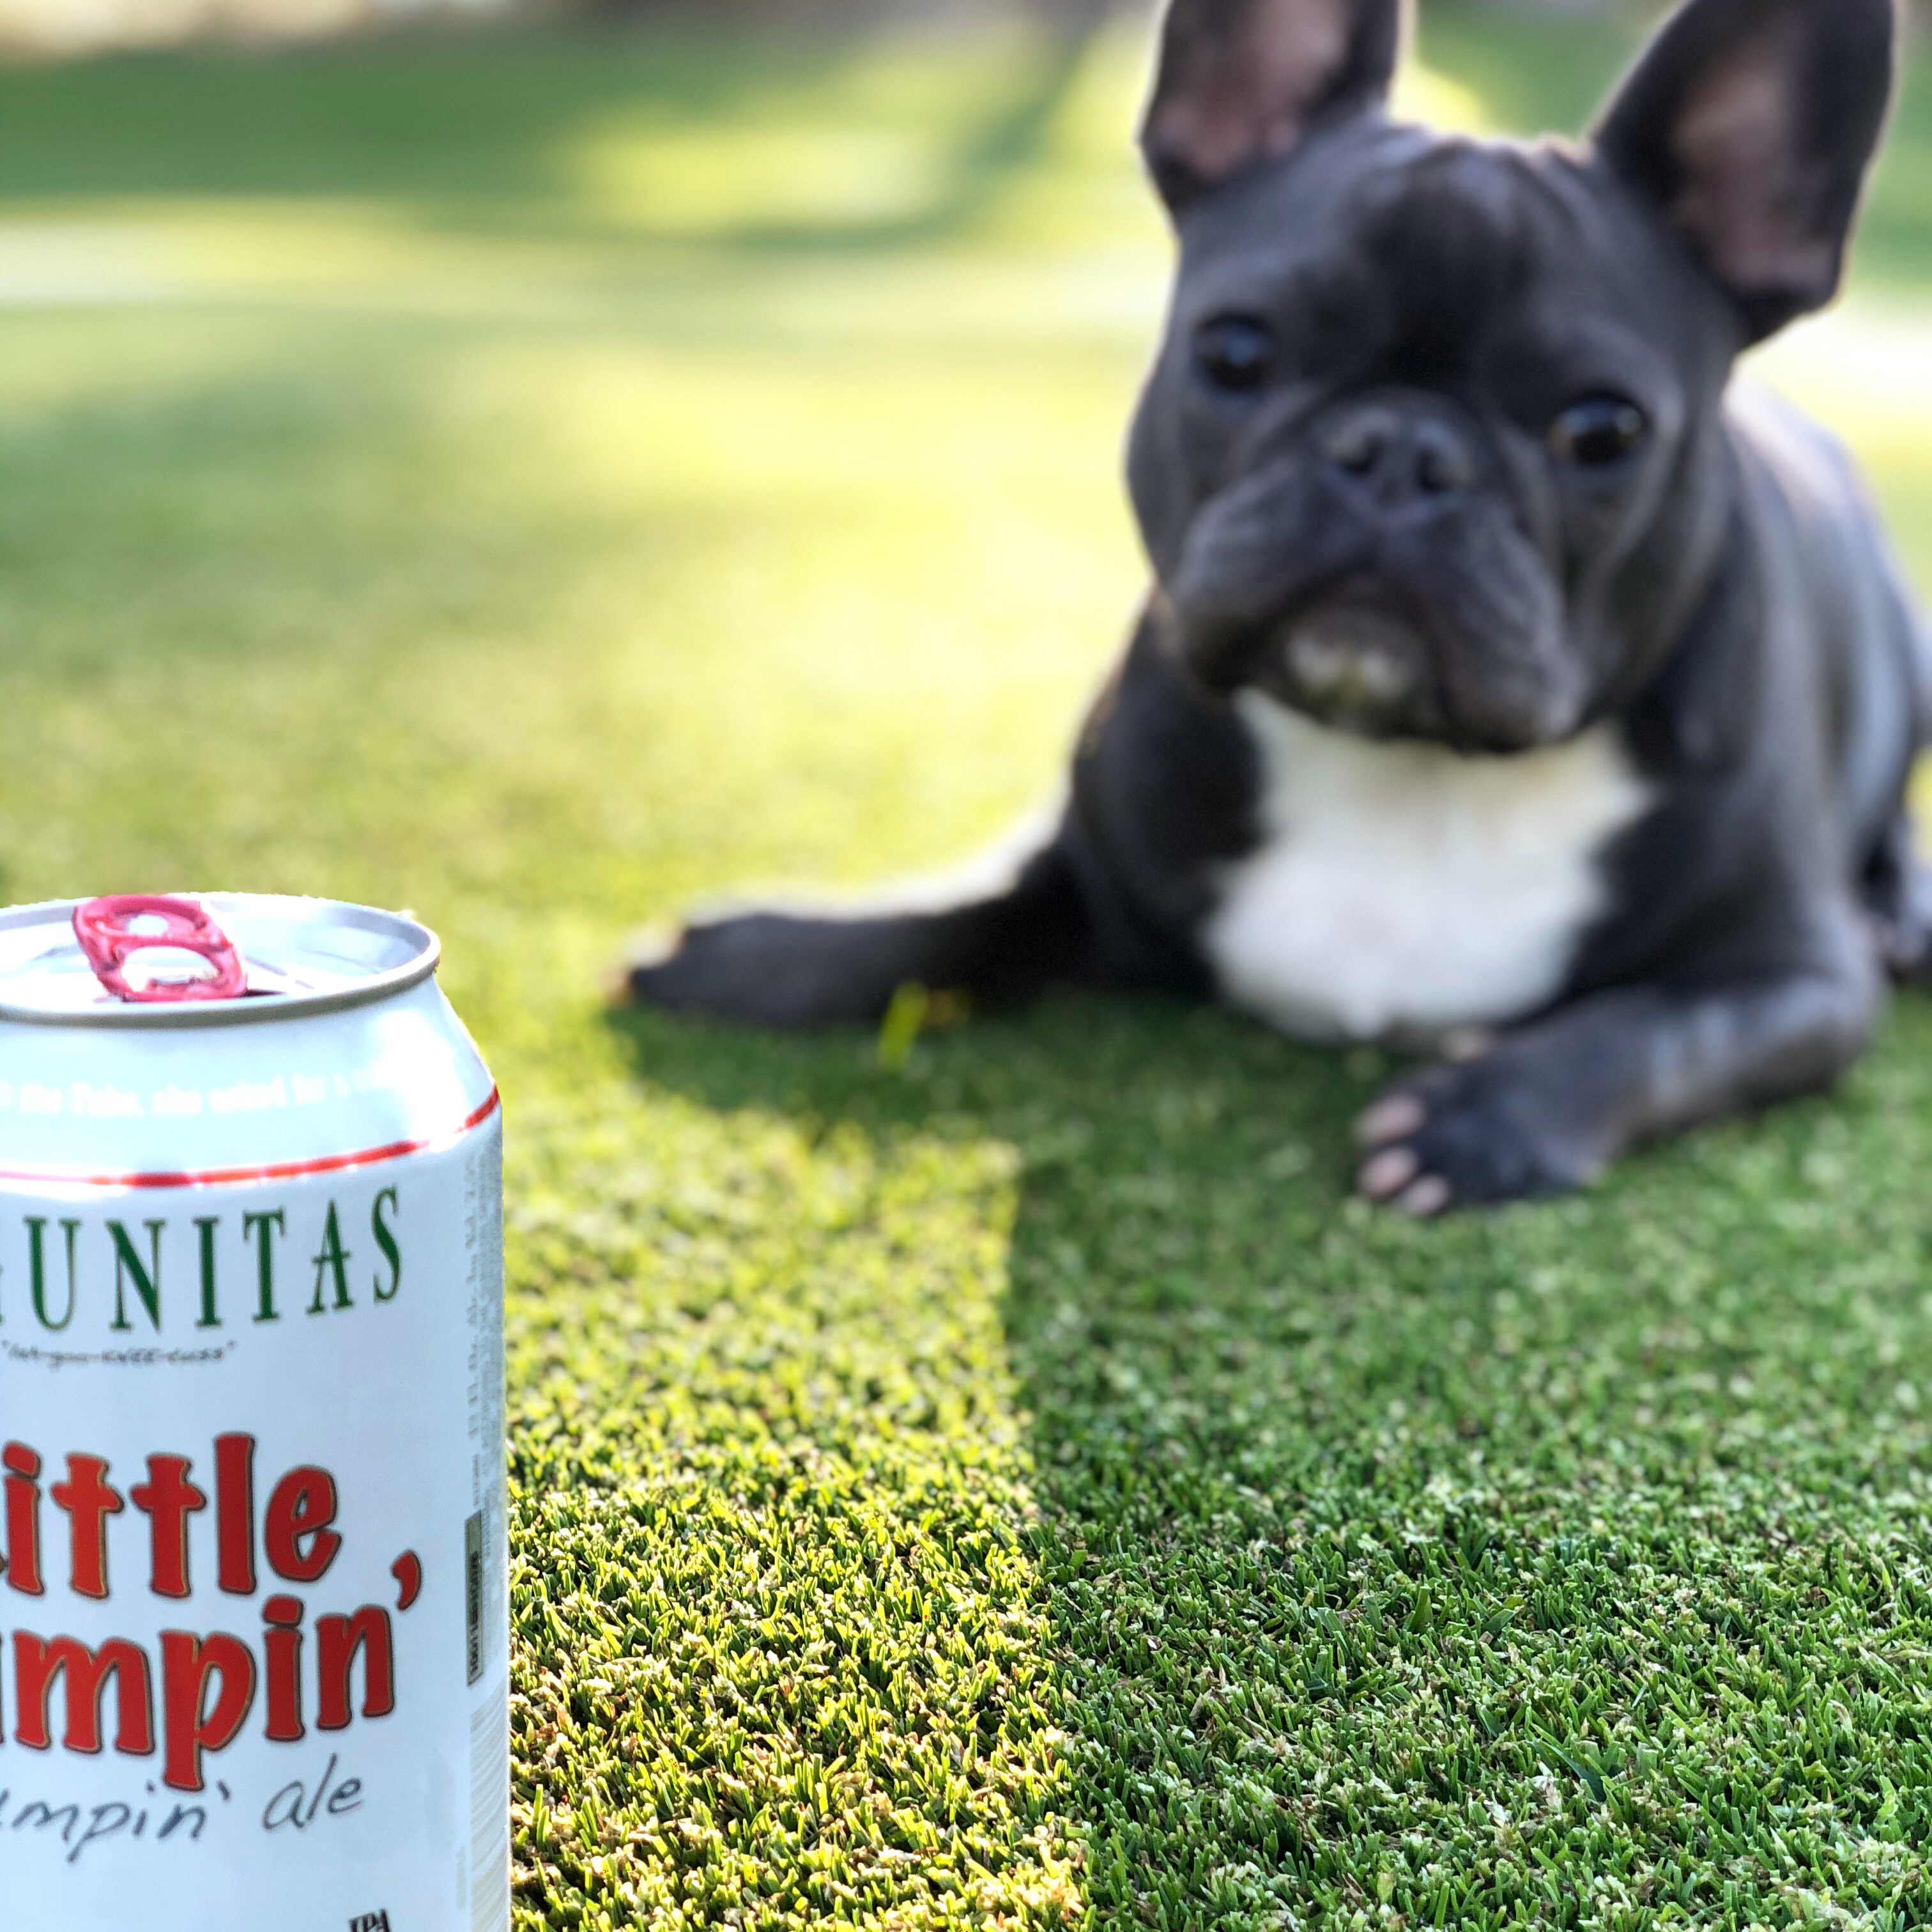lucy: (602, 0, 1928, 1217)
